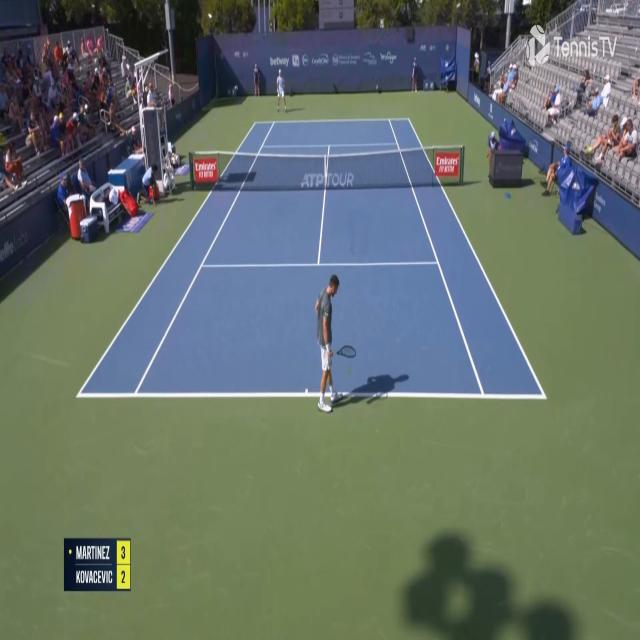tennis-player: (314, 269, 357, 418), (276, 68, 289, 114)
